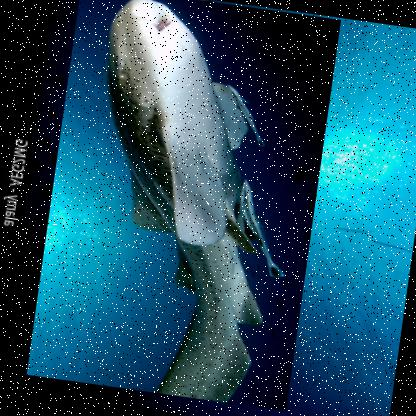zebra_shark: (25, 0, 342, 411)
